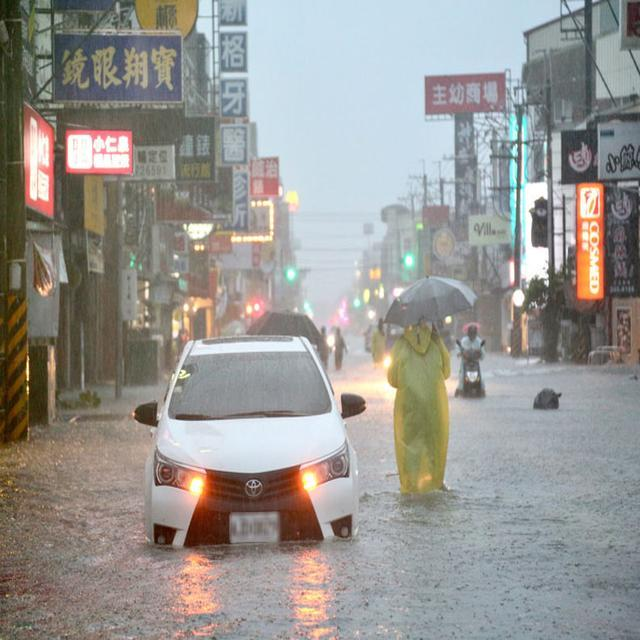Car-RiskLevel3: (130, 319, 374, 556)
Person-RiskLevel2: (381, 289, 457, 499), (448, 315, 498, 403)
